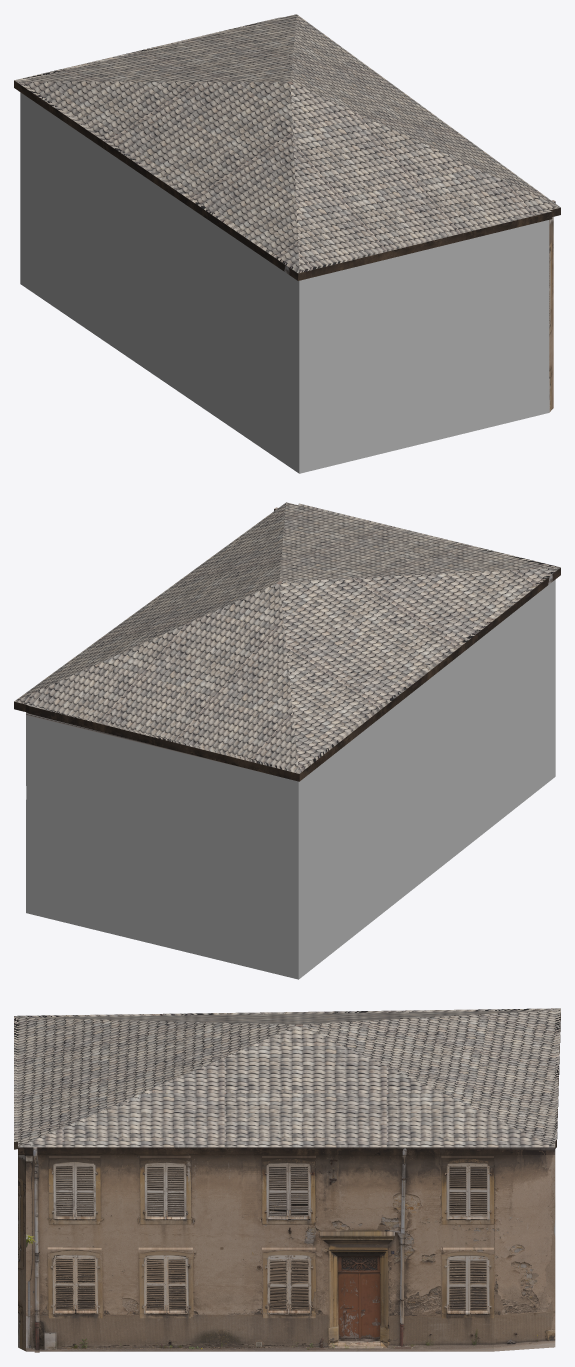
File: house.fbx
3 renders of one model, top to bottom at view 1: azimuth 30°, elevation 25°; view 2: azimuth 150°, elevation 25°; view 3: azimuth 270°, elevation 25°, orthographic. The views are drawn at different scales.
Parts seen in each view (by area): view 1: 2.001; view 2: 2.001; view 3: 2.001.
Part boxes in pixels (x1,y1,x2,y2): 2.001: (14, 14, 560, 473); 2.001: (14, 502, 560, 979); 2.001: (14, 1008, 560, 1352).
Size of the model in its own units: 147 by 127 by 241.
